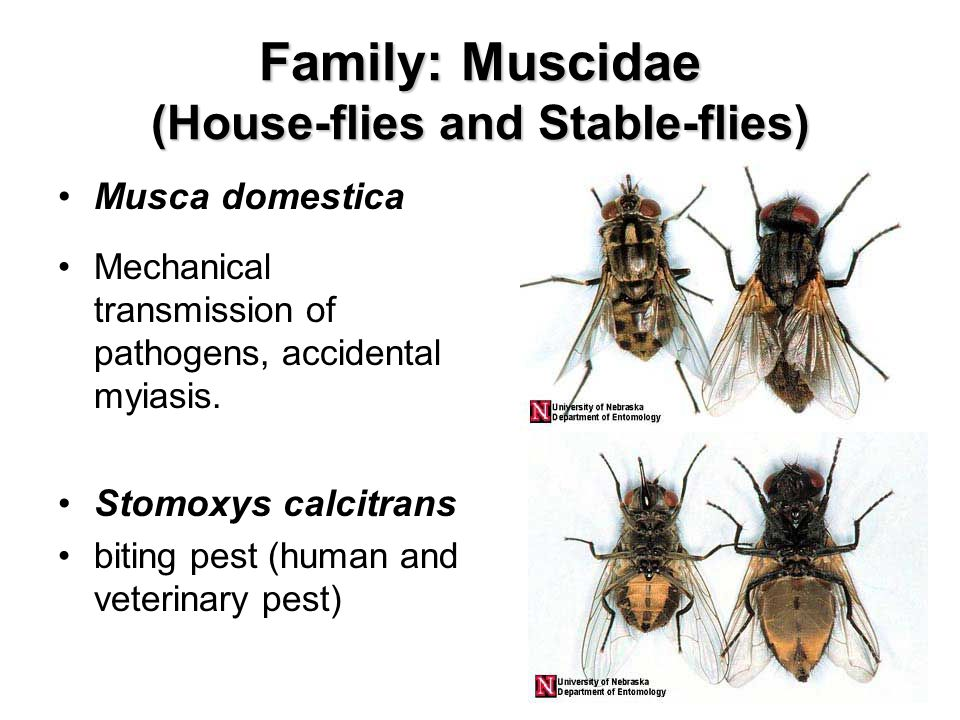house fly: (686, 149, 902, 442), (512, 147, 723, 421), (707, 433, 904, 712), (556, 433, 733, 684)
